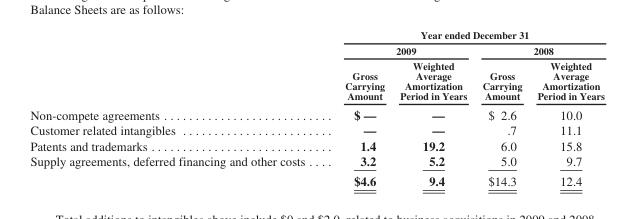table: (29, 29, 603, 187)
table column: (29, 29, 324, 187), (391, 29, 474, 187), (529, 29, 603, 187), (324, 29, 391, 187), (474, 29, 529, 187)
table column header: (29, 29, 603, 104)
table row: (29, 57, 603, 104), (29, 104, 603, 122), (29, 152, 603, 170), (29, 170, 603, 187), (29, 42, 603, 57), (29, 122, 603, 137), (29, 137, 603, 152), (29, 29, 603, 42)
table spanning cell: (324, 29, 603, 42), (324, 42, 474, 57), (474, 42, 603, 57)
